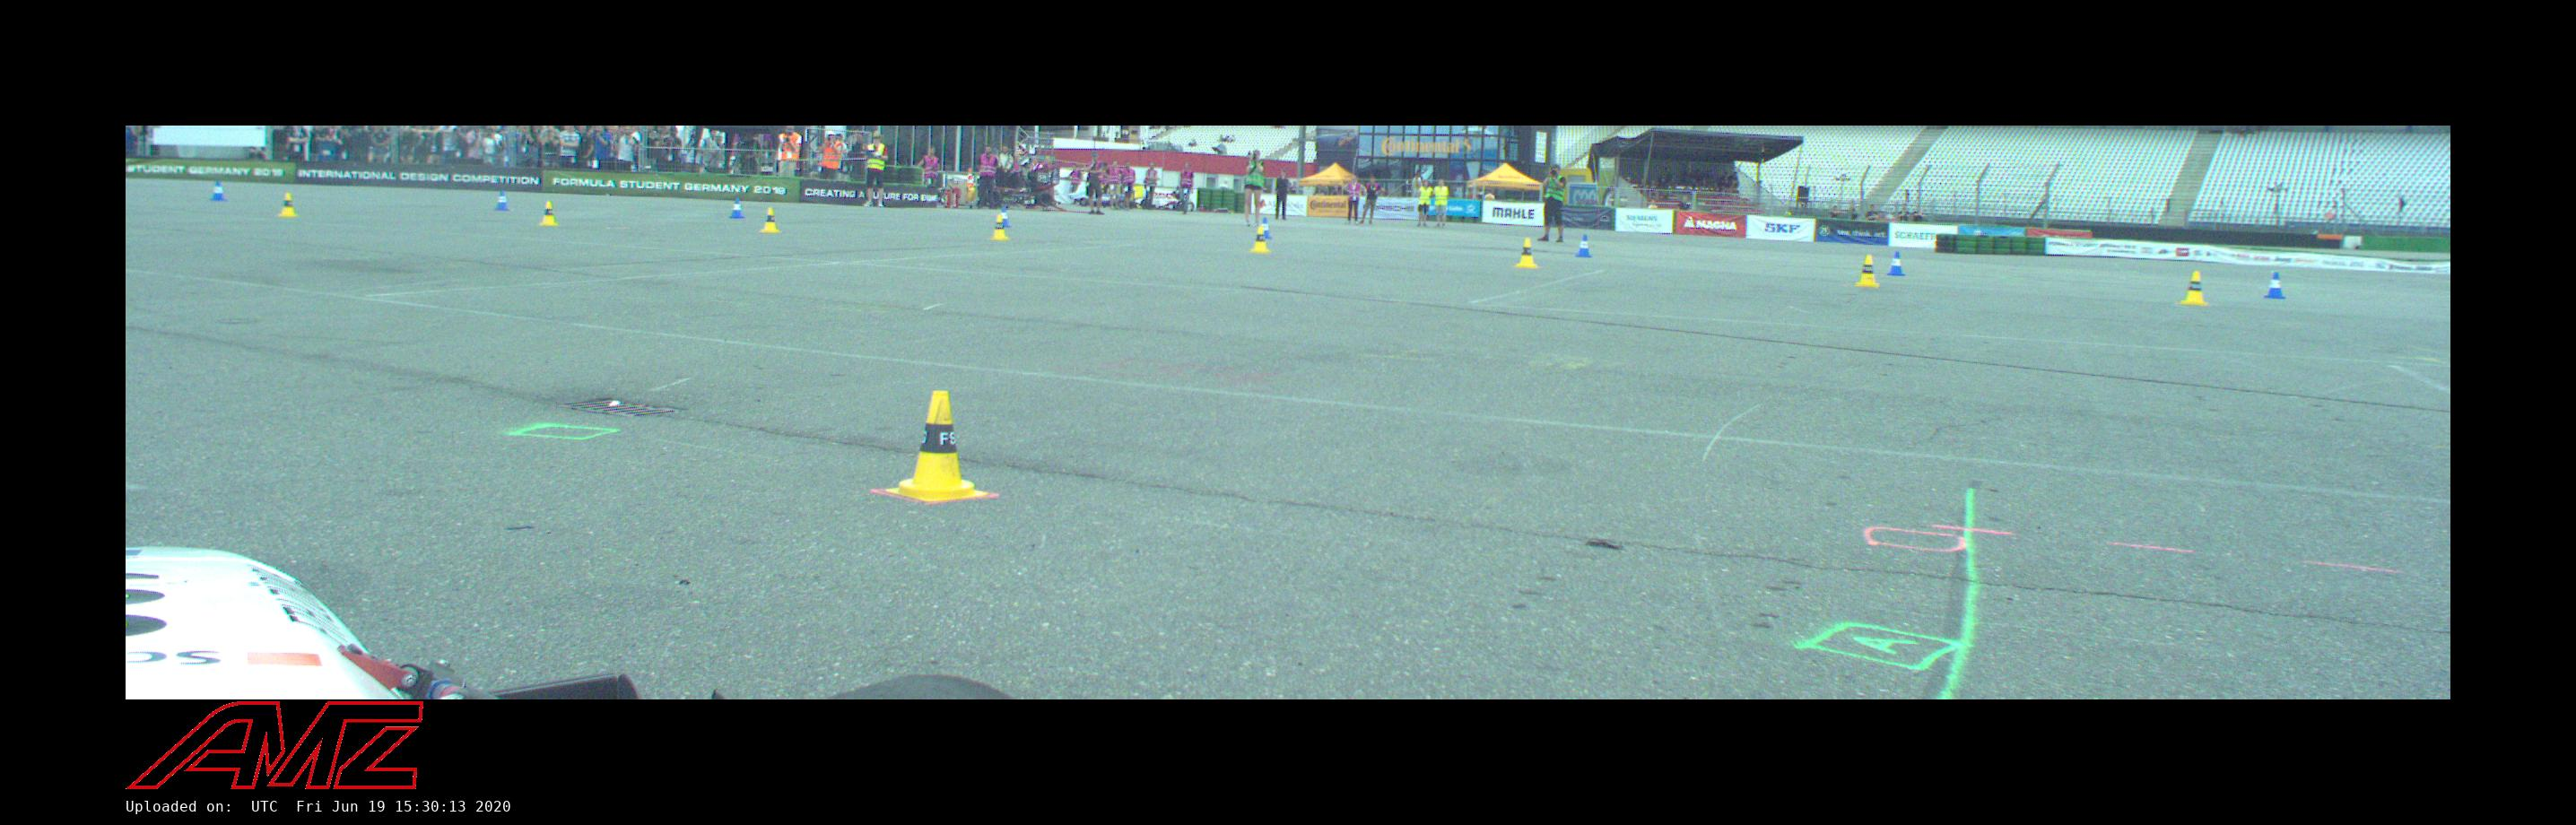blue_cone: (2262, 271, 2287, 299), (1886, 251, 1906, 276), (1576, 233, 1592, 258), (728, 197, 746, 219), (494, 191, 511, 212), (210, 181, 227, 202), (1262, 217, 1273, 238), (1002, 205, 1012, 228)
yellow_cone: (885, 389, 987, 503), (2178, 271, 2210, 306), (1855, 255, 1881, 286), (1515, 238, 1539, 270), (537, 200, 560, 227), (759, 207, 782, 232), (1250, 227, 1272, 253), (278, 192, 297, 217), (992, 215, 1010, 240)
